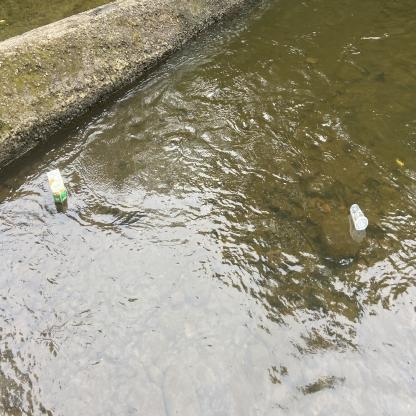trash: (40, 163, 72, 211), (347, 201, 369, 234)
